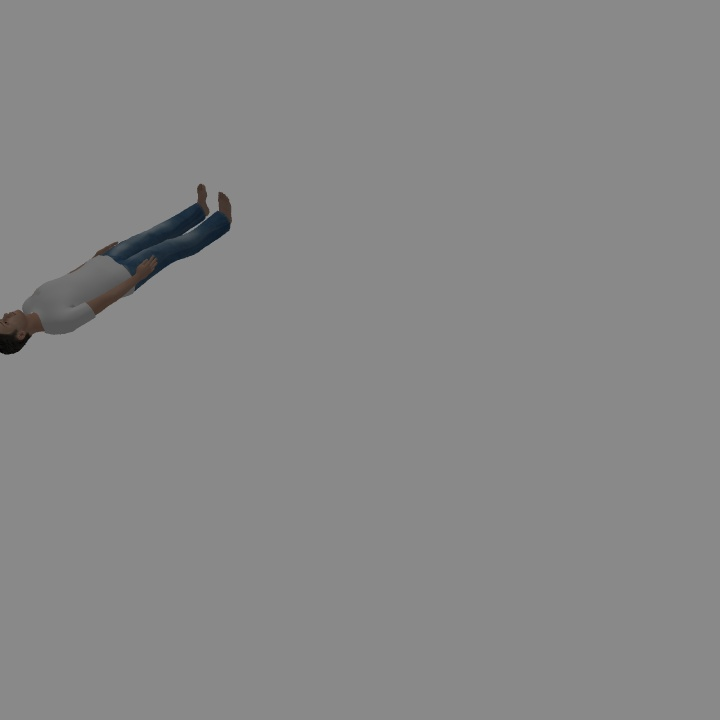victim: (2, 184, 230, 353)
